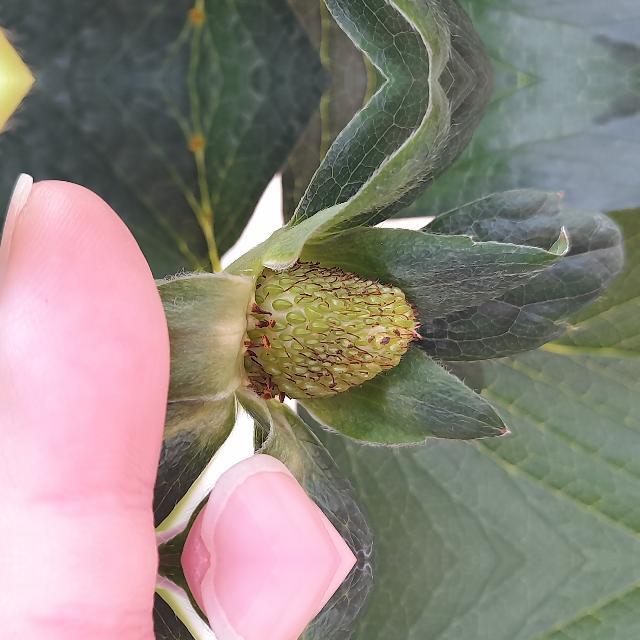Health_25: (240, 262, 420, 398)
